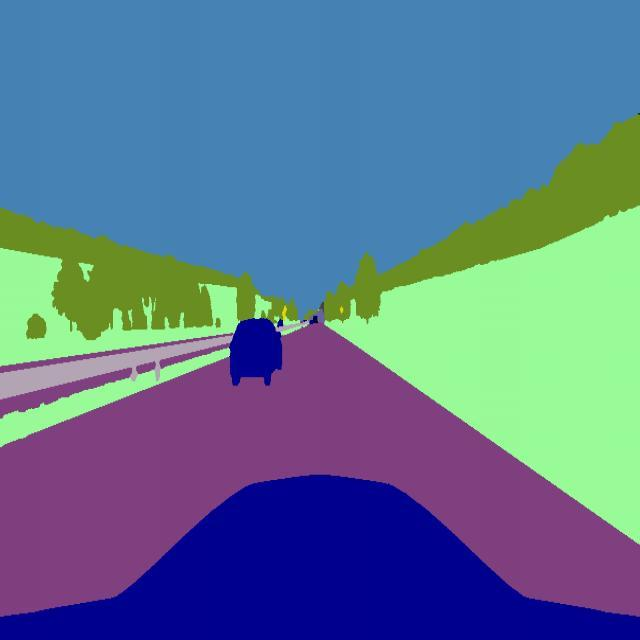safe: (228, 316, 284, 390)
